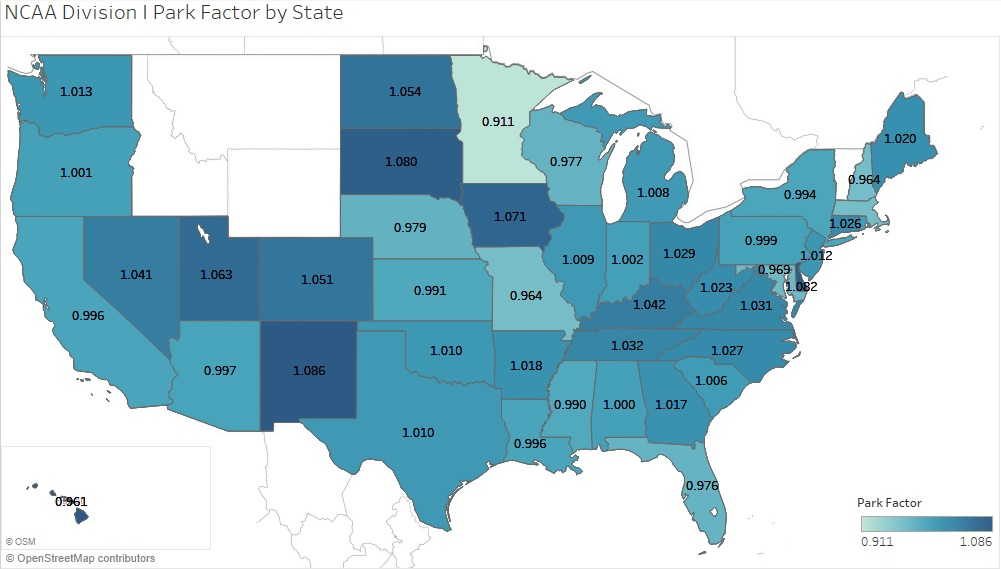

The dashboard page shown, as its layout file describes it:
{"tool":"tableau","page":{"name":"Dashboard 1","canvas":[1000,800],"ordinal":0},"visuals":[{"type":"worksheet","title":"Sheet 1 (2)","mark":"Multipolygon","box":[0,430,210,119]},{"type":"legend","title":"Sheet 1","param":"[federated.07tj7qf0zxa0i91a50yd70klw90s].[avg:Park Factor:qk]","box":[856,493,140,76]}]}

Visuals, with their boxes on the page's 1000x800 design canvas (x1, y1, x2, y2). These are canvas units, not pixel positions in the 1001x569 screenshot, which may show the page scaled, cropped or inside an application window:
"Sheet 1 (2)" worksheet (Multipolygon marks): 0 430 210 549
"Sheet 1" legend: 856 493 996 569
